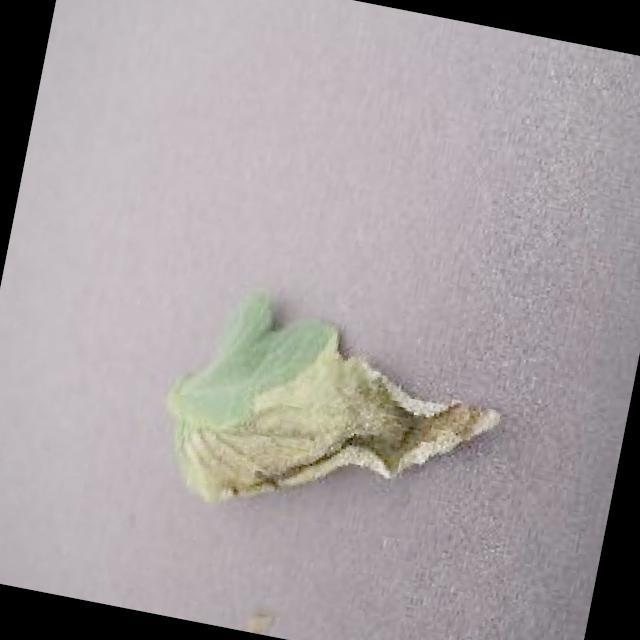Tomato late blight leaf: (165, 291, 523, 559)
